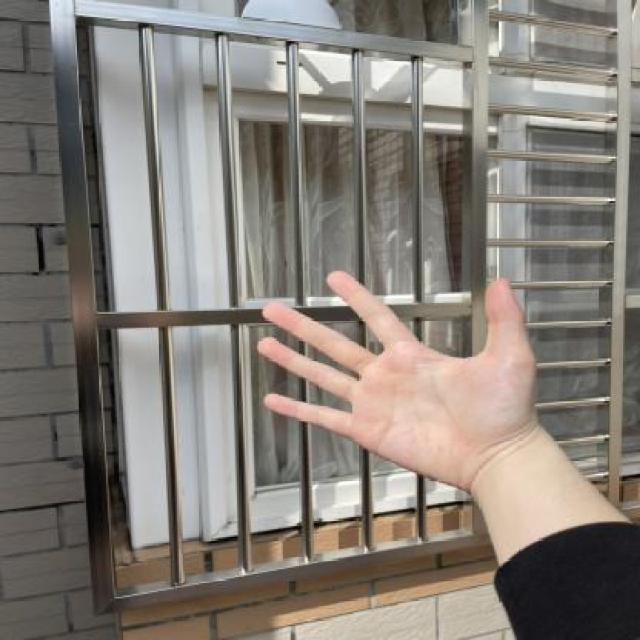no_glove: (236, 260, 553, 503)
